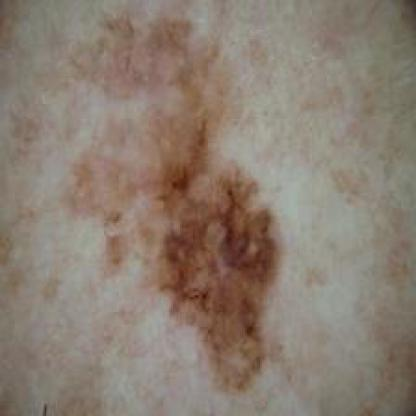malignant: (121, 41, 282, 356)
